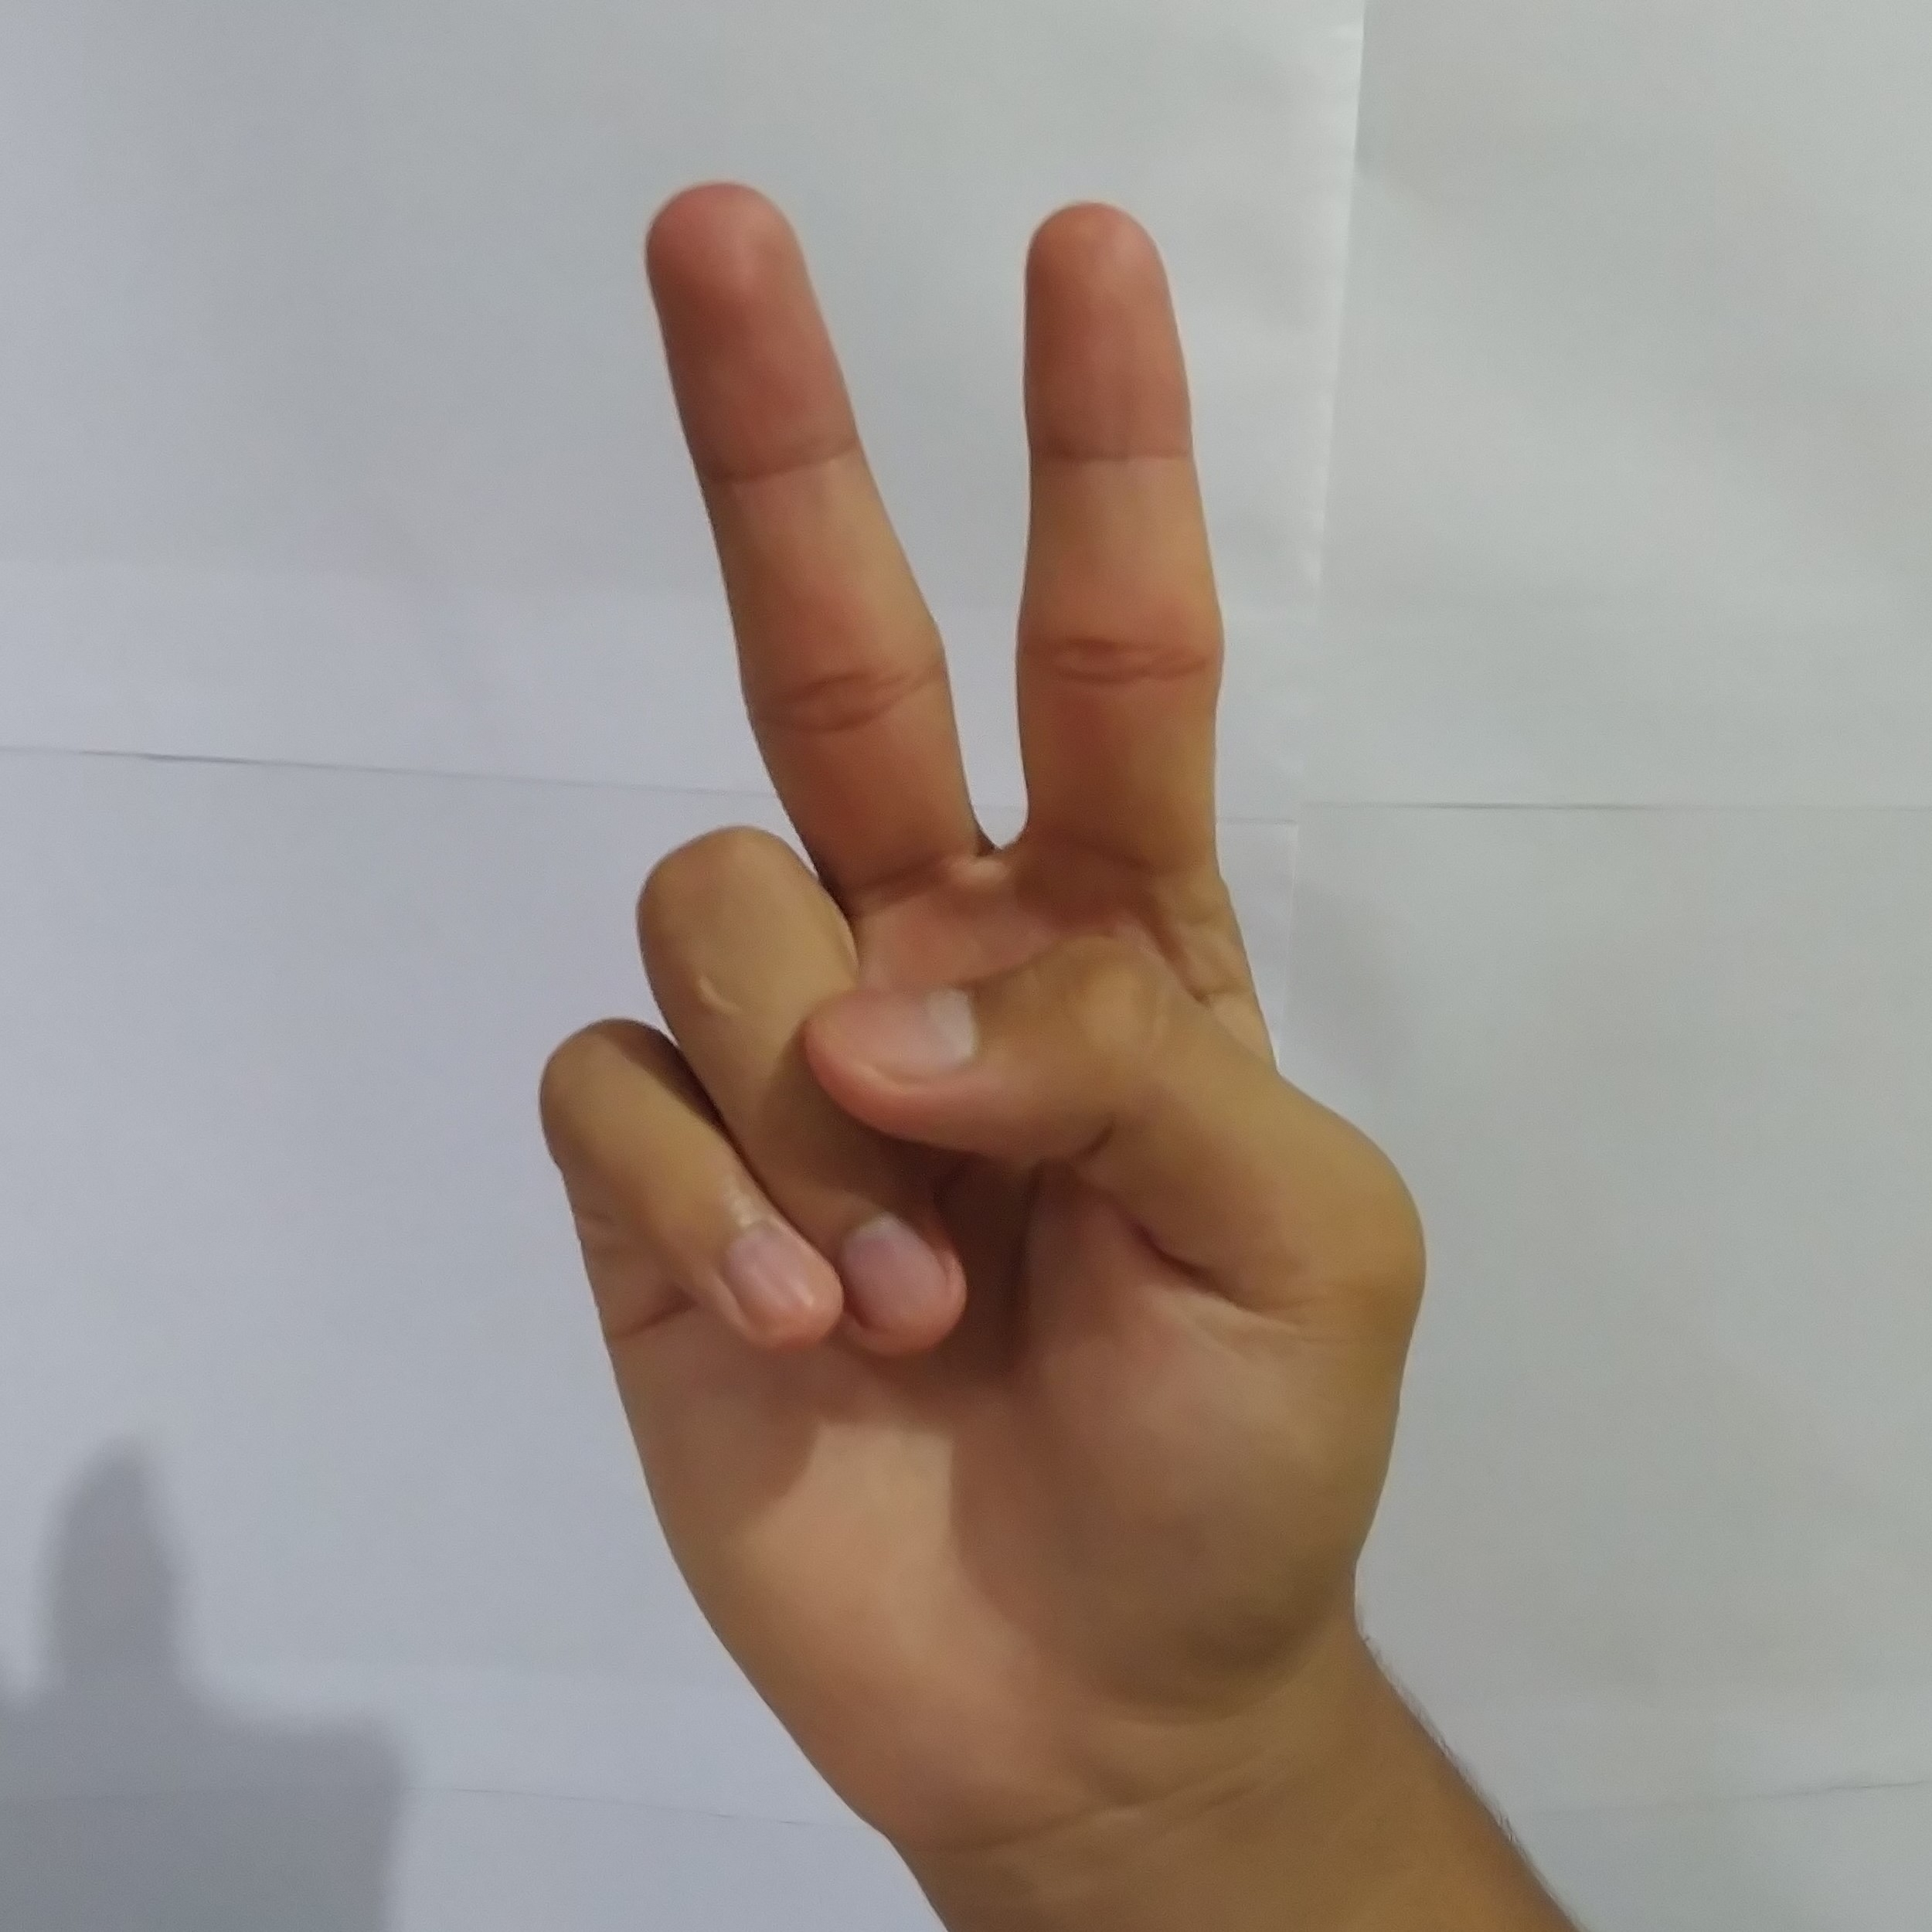V: (502, 145, 1453, 1767)
